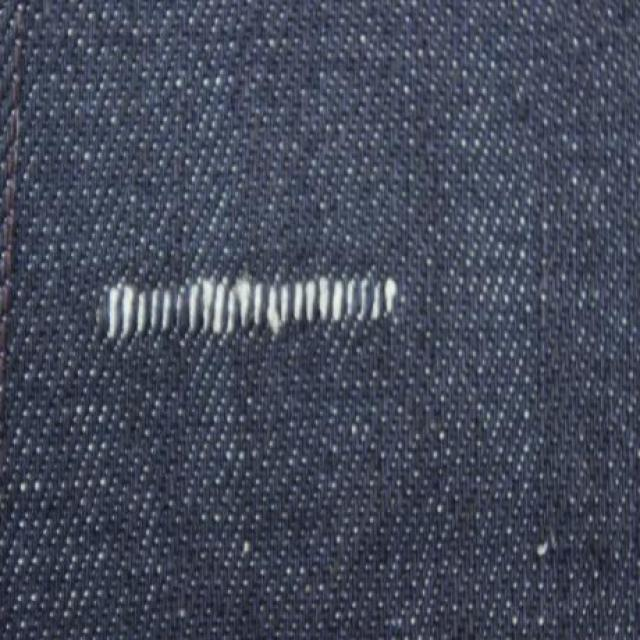stains: (58, 229, 420, 399)
